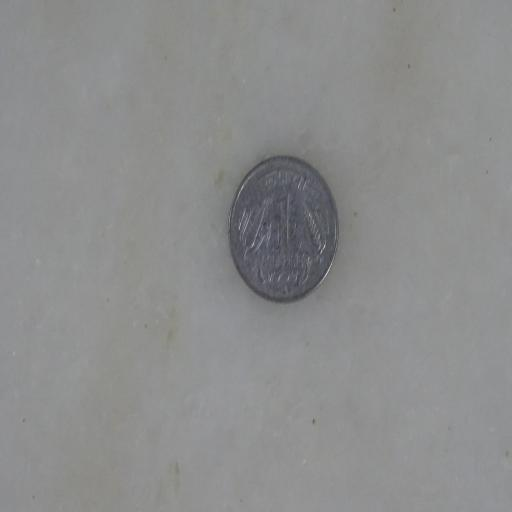rupee1: (225, 155, 340, 304)
